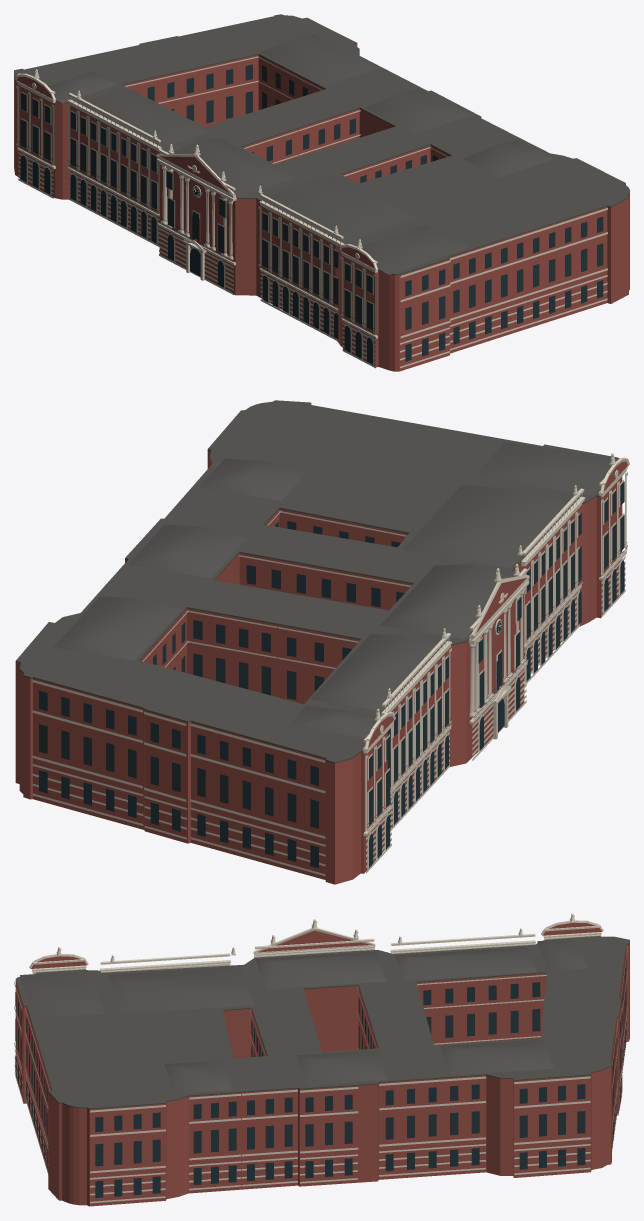
File: capitole-de-toulouse-far.glb
3 views of the same model, one above another, from view 1: azimuth 30°, elevation 25°; view 2: azimuth 150°, elevation 25°; view 3: azimuth 270°, elevation 25° (orthographic). The views are drawn at different scales.
Visible parts, largest first — view 1: capitole-de-toulouse-0-roof, capitole-de-toulouse-0-brick, capitole-de-toulouse-0-stone, capitole-de-toulouse-0-glass, capitole-de-toulouse-0-glow, capitole-de-toulouse-0-marble, capitole-de-toulouse-0-metal; view 2: capitole-de-toulouse-0-roof, capitole-de-toulouse-0-brick, capitole-de-toulouse-0-stone, capitole-de-toulouse-0-glass, capitole-de-toulouse-0-glow, capitole-de-toulouse-0-marble; view 3: capitole-de-toulouse-0-roof, capitole-de-toulouse-0-brick, capitole-de-toulouse-0-stone, capitole-de-toulouse-0-glass, capitole-de-toulouse-0-glow.
Part boxes in pixels (left/top/right/bottom): capitole-de-toulouse-0-roof: left=14, top=14, right=629, bottom=275; capitole-de-toulouse-0-brick: left=14, top=44, right=629, bottom=371; capitole-de-toulouse-0-stone: left=14, top=56, right=607, bottom=368; capitole-de-toulouse-0-glass: left=20, top=64, right=603, bottom=364; capitole-de-toulouse-0-glow: left=20, top=91, right=603, bottom=330; capitole-de-toulouse-0-marble: left=161, top=166, right=233, bottom=258; capitole-de-toulouse-0-metal: left=17, top=141, right=374, bottom=333; capitole-de-toulouse-0-roof: left=15, top=400, right=619, bottom=763; capitole-de-toulouse-0-brick: left=15, top=450, right=627, bottom=884; capitole-de-toulouse-0-stone: left=32, top=453, right=629, bottom=876; capitole-de-toulouse-0-glass: left=39, top=481, right=624, bottom=868; capitole-de-toulouse-0-glow: left=39, top=515, right=624, bottom=828; capitole-de-toulouse-0-marble: left=469, top=590, right=524, bottom=716; capitole-de-toulouse-0-roof: left=15, top=936, right=629, bottom=1109; capitole-de-toulouse-0-brick: left=15, top=922, right=629, bottom=1206; capitole-de-toulouse-0-stone: left=14, top=913, right=627, bottom=1203; capitole-de-toulouse-0-glass: left=15, top=957, right=626, bottom=1197; capitole-de-toulouse-0-glow: left=15, top=984, right=626, bottom=1166.
Bounding box in the file's own units: 71.41 × 25 × 106.
